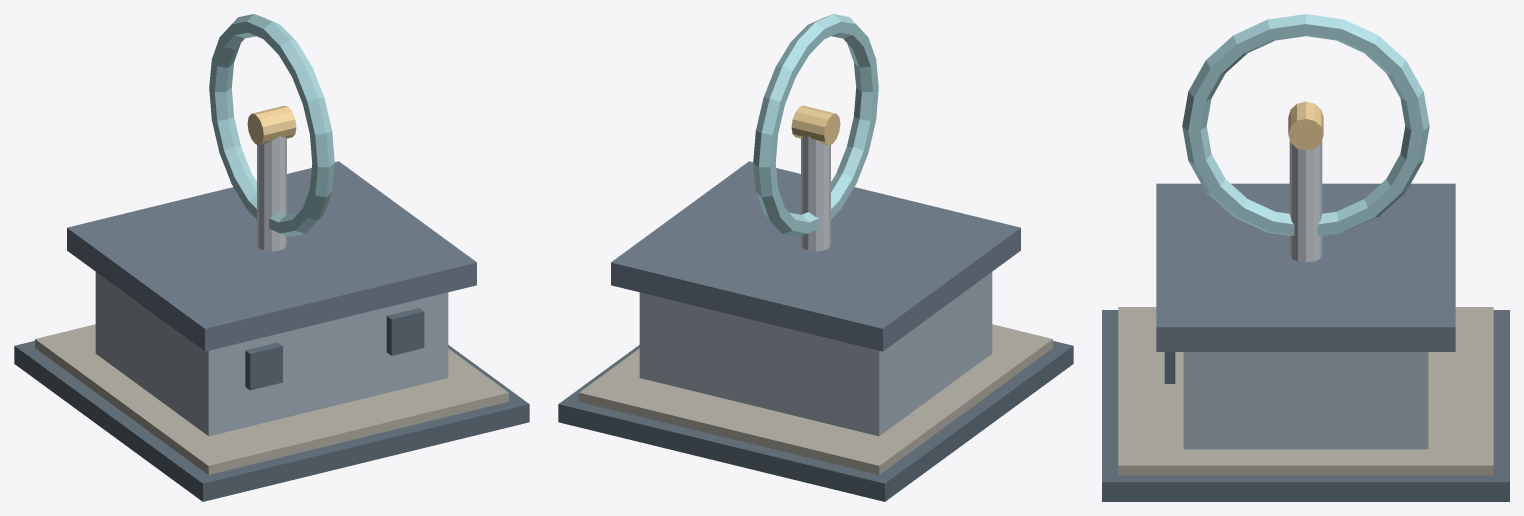
Rendered from radar-station.glb.
3 renders of one model, left to right at view 1: azimuth 30°, elevation 25°; view 2: azimuth 150°, elevation 25°; view 3: azimuth 270°, elevation 25°, orthographic. The views are drawn at different scales.
Visible parts, largest first — view 1: Station radar; view 2: Station radar; view 3: Station radar.
Part boxes in pixels (<box>): Station radar: <box>14,14,529,501</box>; Station radar: <box>558,14,1073,501</box>; Station radar: <box>1102,14,1509,501</box>.
Bounding box in the file's own units: 3 × 3.26 × 3.
